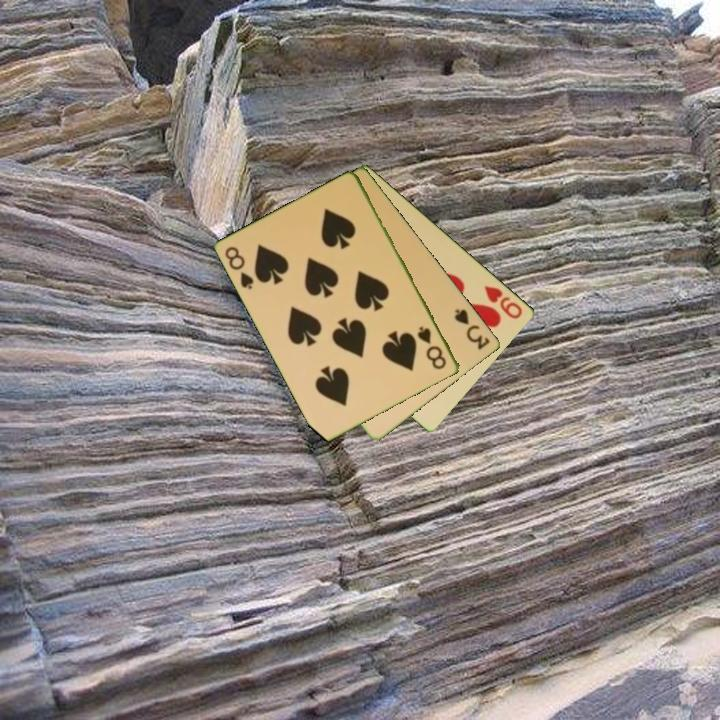3s: (451, 305, 493, 353)
8s: (221, 243, 257, 293), (414, 323, 450, 372)
9h: (481, 282, 526, 322)
